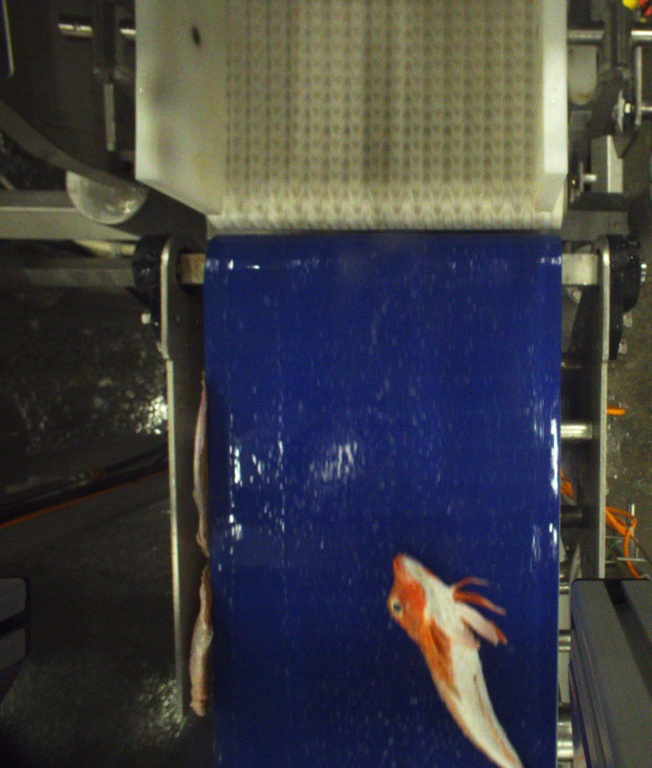GUU: (387, 552, 525, 768)
